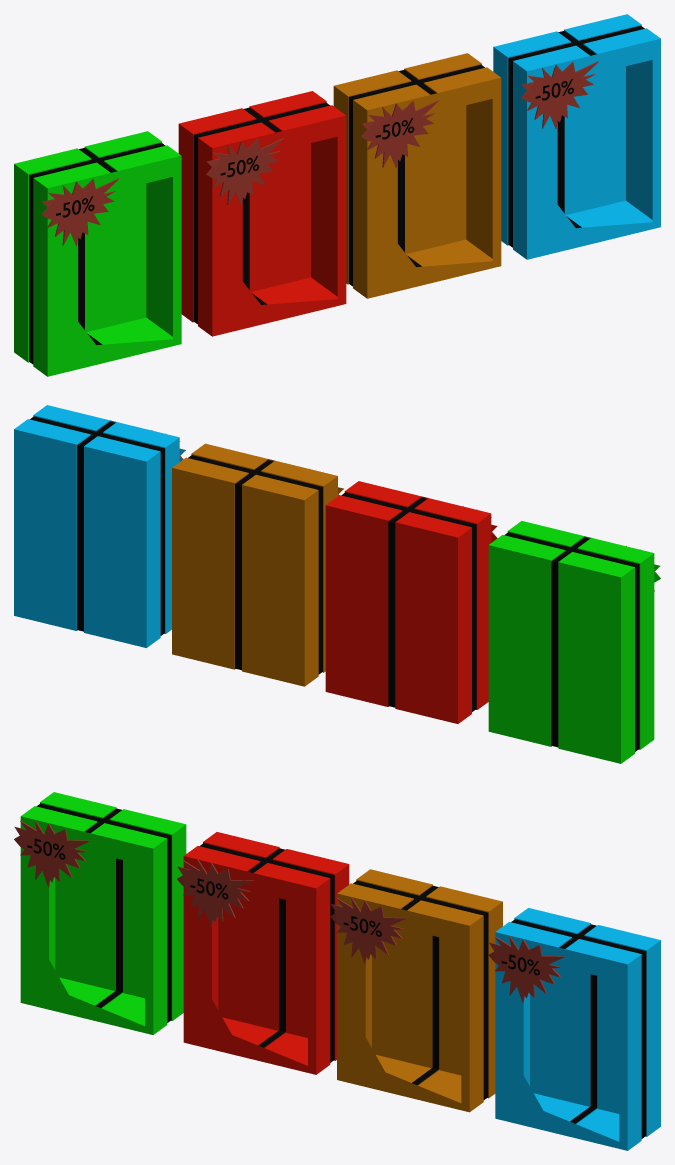
3 renders of one model, top to bottom at view 1: azimuth 30°, elevation 25°; view 2: azimuth 150°, elevation 25°; view 3: azimuth 330°, elevation 25°, orthographic.
Parts seen in each view (by area): view 1: Cube, Cube.002, Cube.006, Cube.004, Cube.005, Cube.003, Cube.001, Cube.007; view 2: Cube, Cube.002, Cube.006, Cube.004; view 3: Cube.006, Cube, Cube.004, Cube.002, Cube.001, Cube.003, Cube.005, Cube.007.
Part boxes in pixels (x1,y1,x2,y2): Cube: (14,131,180,376); Cube.002: (178,91,345,336); Cube.006: (493,14,660,259); Cube.004: (333,53,500,298); Cube.005: (361,77,501,298); Cube.003: (206,115,346,336); Cube.001: (41,155,181,376); Cube.007: (521,38,660,259); Cube: (488,521,654,763); Cube.002: (325,481,491,723); Cube.006: (14,405,179,647); Cube.004: (172,443,337,686); Cube.006: (496,908,660,1150); Cube: (21,792,186,1034); Cube.004: (337,869,502,1111); Cube.002: (184,832,349,1074); Cube.001: (14,816,153,1034); Cube.003: (177,856,316,1074); Cube.005: (330,893,469,1112); Cube.007: (488,932,627,1150).
Size of the model in its own units: 2600 by 756 by 251.
